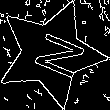N_NW: (19, 25, 82, 82)
